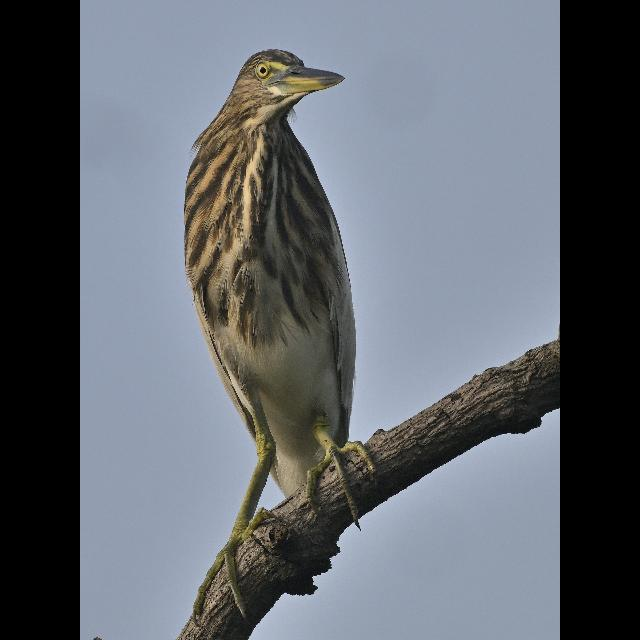heron: (174, 42, 393, 586)
